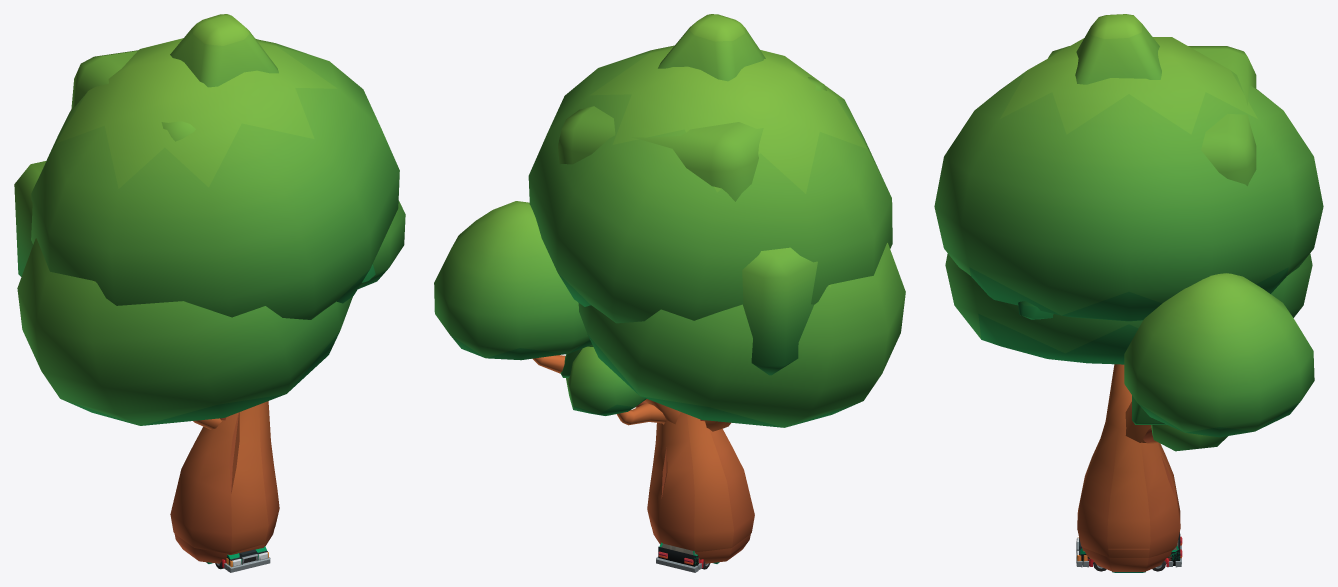
File: kaykit.glb
The picture shows the model from 3 angles, left to right: view 1: azimuth 30°, elevation 25°; view 2: azimuth 150°, elevation 25°; view 3: azimuth 270°, elevation 25°; orthographic projection.
Parts seen in each view (by area): view 1: F_Tree_1_B, F_Tree_1_A, F_Tree_4_A, F_Tree_2_A, K_car_police; view 2: F_Tree_1_B, F_Tree_1_A, F_Tree_2_A, F_Tree_4_A, K_car_police; view 3: F_Tree_1_B, F_Tree_1_A, F_Tree_4_A, F_Tree_2_A.
Boxes of the visible parts, x1,y1,x2,y2 form: F_Tree_1_B: (31,38,405,553); F_Tree_1_A: (17,238,352,563); F_Tree_4_A: (170,14,375,282); F_Tree_2_A: (14,38,256,420); K_car_police: (227,549,270,572); F_Tree_1_B: (434,45,892,552); F_Tree_1_A: (566,243,905,563); F_Tree_2_A: (558,77,826,421); F_Tree_4_A: (560,14,765,407); K_car_police: (656,546,698,572); F_Tree_1_B: (934,37,1323,557); F_Tree_1_A: (945,253,1312,571); F_Tree_4_A: (1018,14,1166,442); F_Tree_2_A: (1048,46,1256,186).
Bounding box in the file's own units: 4.15 × 5.27 × 3.45.
Materials: 2 (2 with a texture image).
